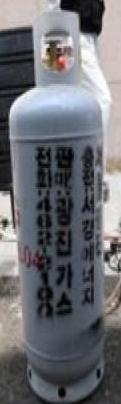cylinder: (0, 1, 121, 404)
